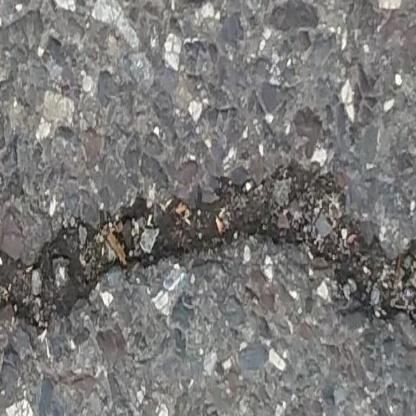Cracks: (0, 168, 416, 341)
